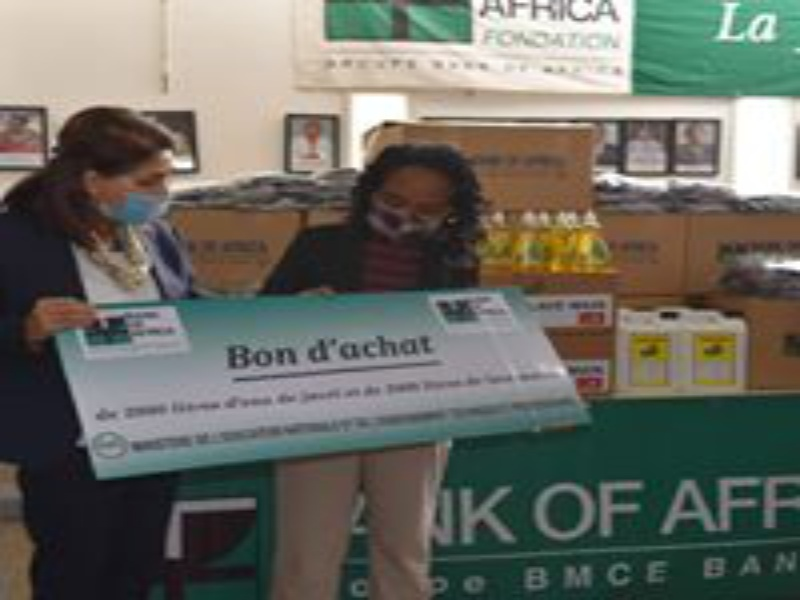ManaoArotava: (360, 149, 462, 256), (100, 121, 185, 232)
